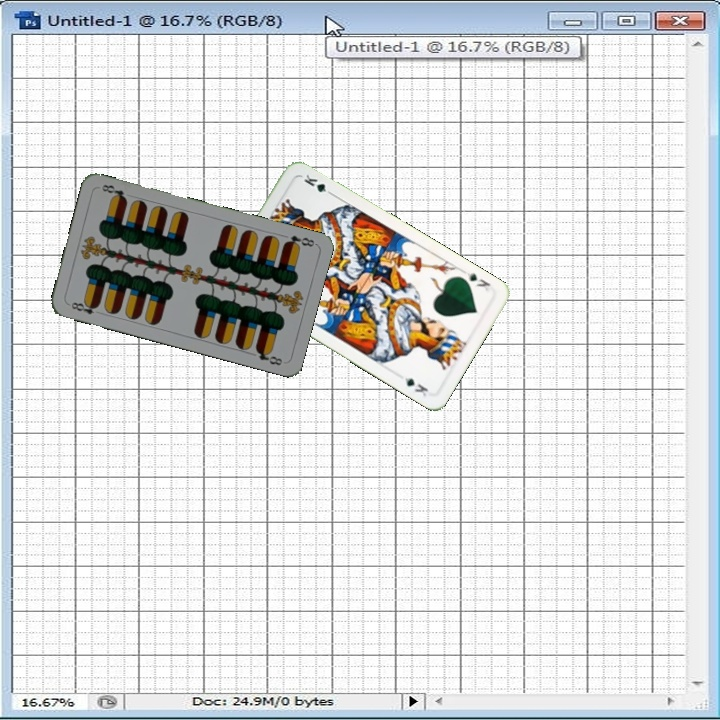E8: (64, 298, 101, 317), (280, 231, 317, 250)
GK: (459, 267, 493, 293)
